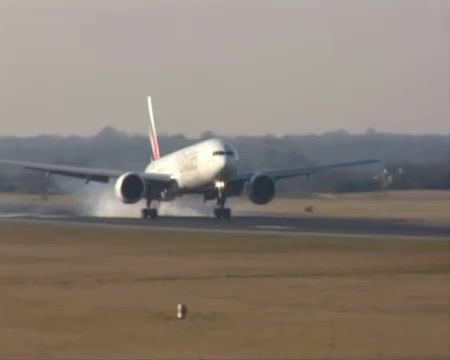aeroplane: (1, 96, 381, 220)
